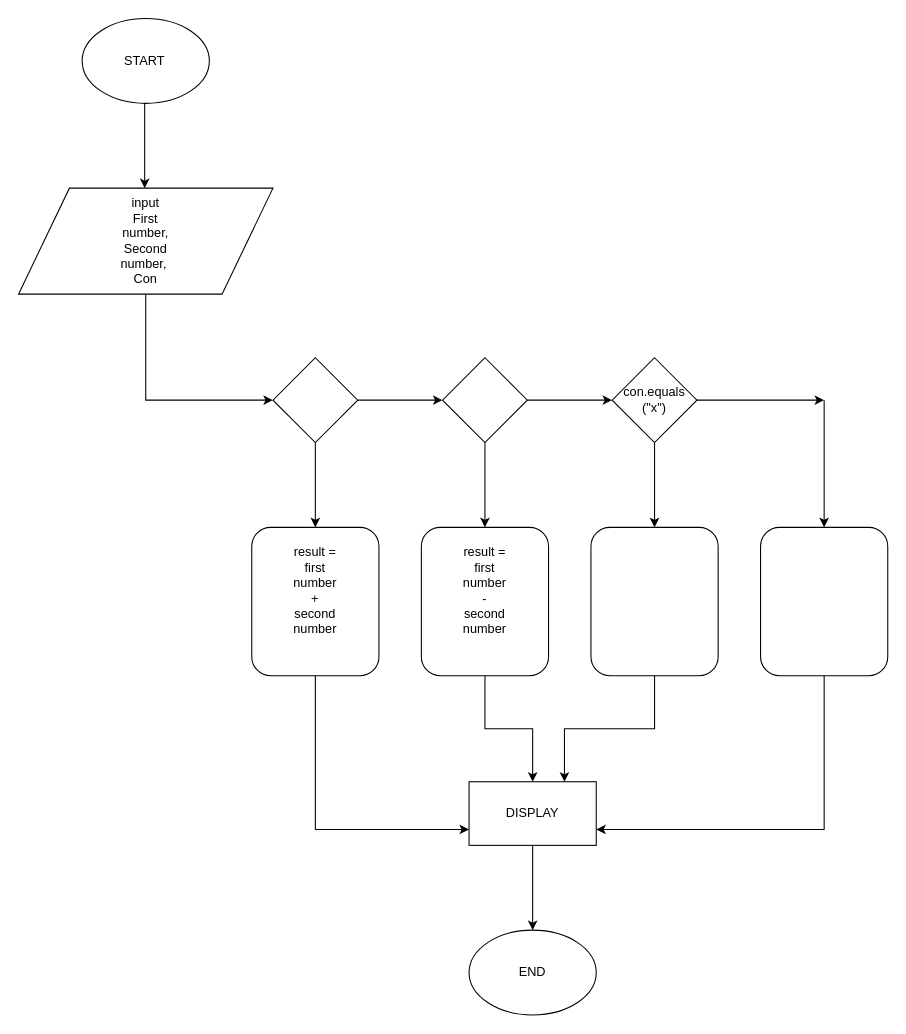
This 906x1034 diagram has some shape labels left out. The centre of each missing label's shape, as x and y in pixels:
con.equals ("+"): point (315, 400)
con.equals ("-"): point (484, 400)
result = first number / second number: point (823, 601)
result = first number x second number: point (654, 601)
